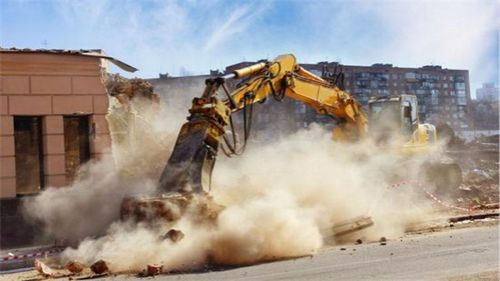dust: (218, 131, 438, 251)
